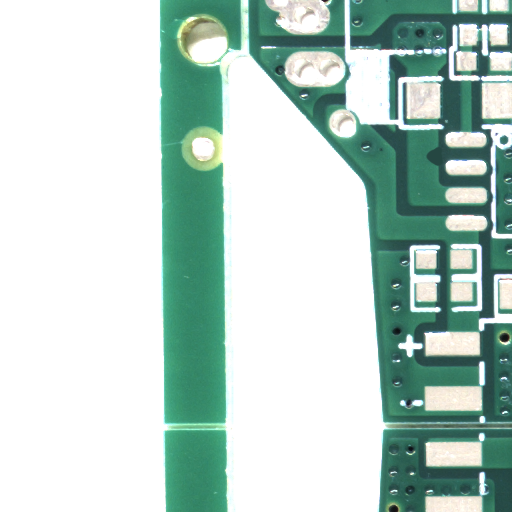Mouse_bite: (434, 156, 448, 175)
